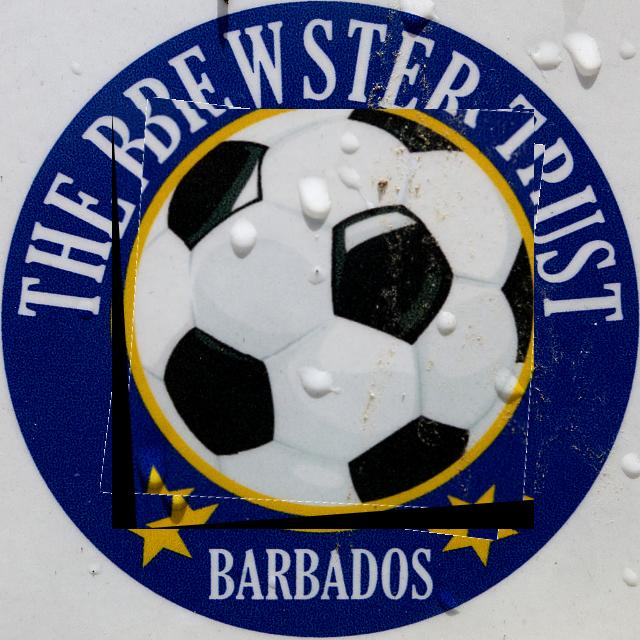Football: (112, 109, 534, 529)
